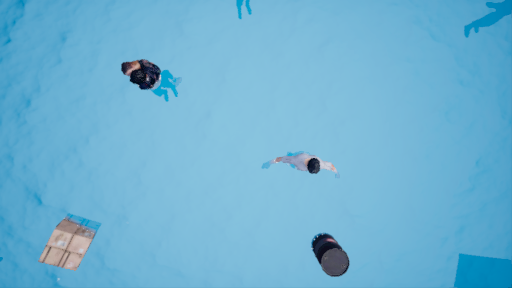person: (261, 140, 348, 189), (118, 56, 186, 114)
